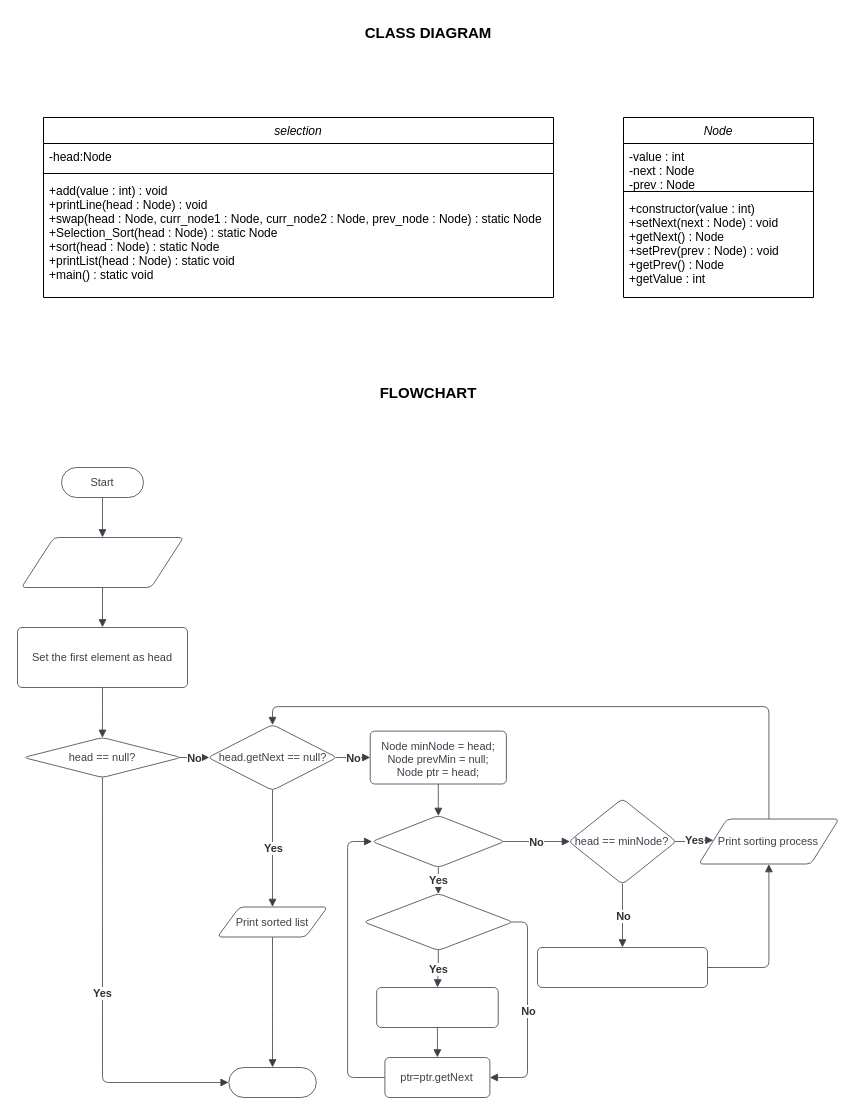
The diagram is 857 pixels wide and 1115 high, and some of its shapes have lost their labels. Here are the shapes that lost their labels. From the top down, the centre of each, then its label:
At [102,562]: "Input data for list sorting".
At [437,841]: "ptr.getNext != null?".
At [438,921]: "ptr.getNext<minNode?".
At [622,967]: "Swap the position of head with minNode".
At [437,1007]: "minNode=ptr.getNext; prevMin=ptr;".
At [272,1082]: "Finish".
